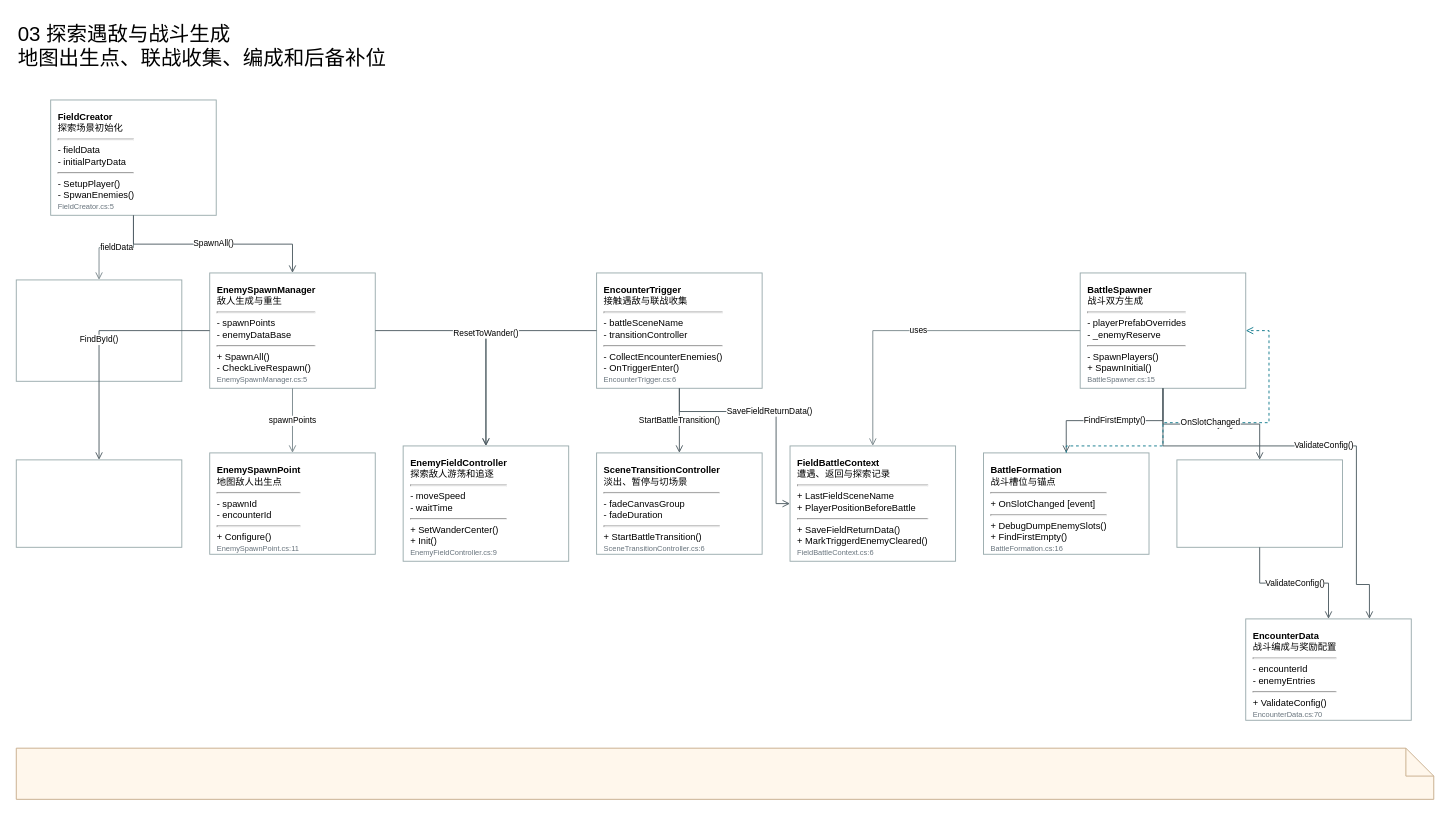
Some shapes in this 1451 by 816 pixel diagram are drawn without their labels. Here are the shapes that lost their labels. From the top down, the box of each, then its label:
(15, 279, 182, 381): FieldData 探索生成配置 - fieldId - spawnPoints (方法见源码) FieldData.cs:75
(15, 459, 182, 547): EnemyDataBase 探索敌人表现配置 - enemies + FindById() EnemyDataBase.cs:5
(1176, 459, 1342, 547): EncounterDataBase 遭遇 ID 数据库 - encounters + FindeById() EncounterDataBase.cs:5
(15, 747, 1434, 799): spawnId 是地图出生点，encounterId 是编成配置；后备敌人等站位释放后补位。
